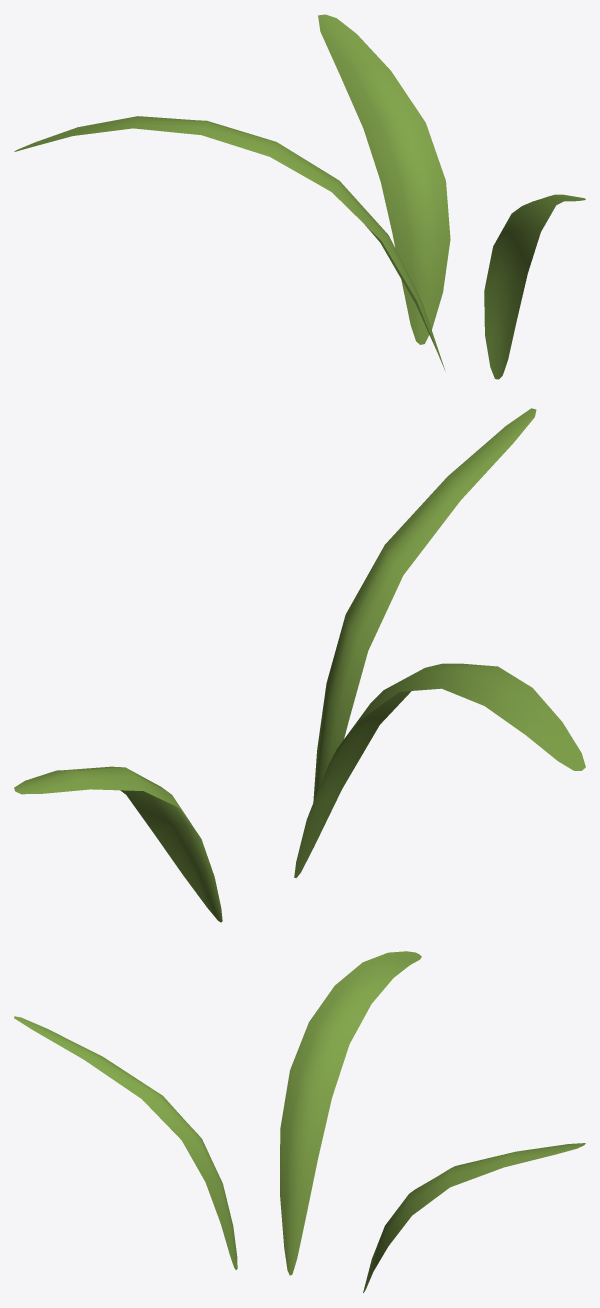
File: object_GEO-leaf_grass-long_003.glb
3 renders of one model, top to bottom at view 1: azimuth 30°, elevation 25°; view 2: azimuth 150°, elevation 25°; view 3: azimuth 270°, elevation 25°, orthographic. The views are drawn at different scales.
Parts seen in each view (by area): view 1: GEO-leaf_grass-long.003; view 2: GEO-leaf_grass-long.003; view 3: GEO-leaf_grass-long.003.
Part boxes in pixels (x1,y1,x2,y2): GEO-leaf_grass-long.003: (14,14,585,379); GEO-leaf_grass-long.003: (14,408,585,922); GEO-leaf_grass-long.003: (14,951,585,1292).
Size of the model in its own units: 0.0878 by 0.0631 by 0.1299.
